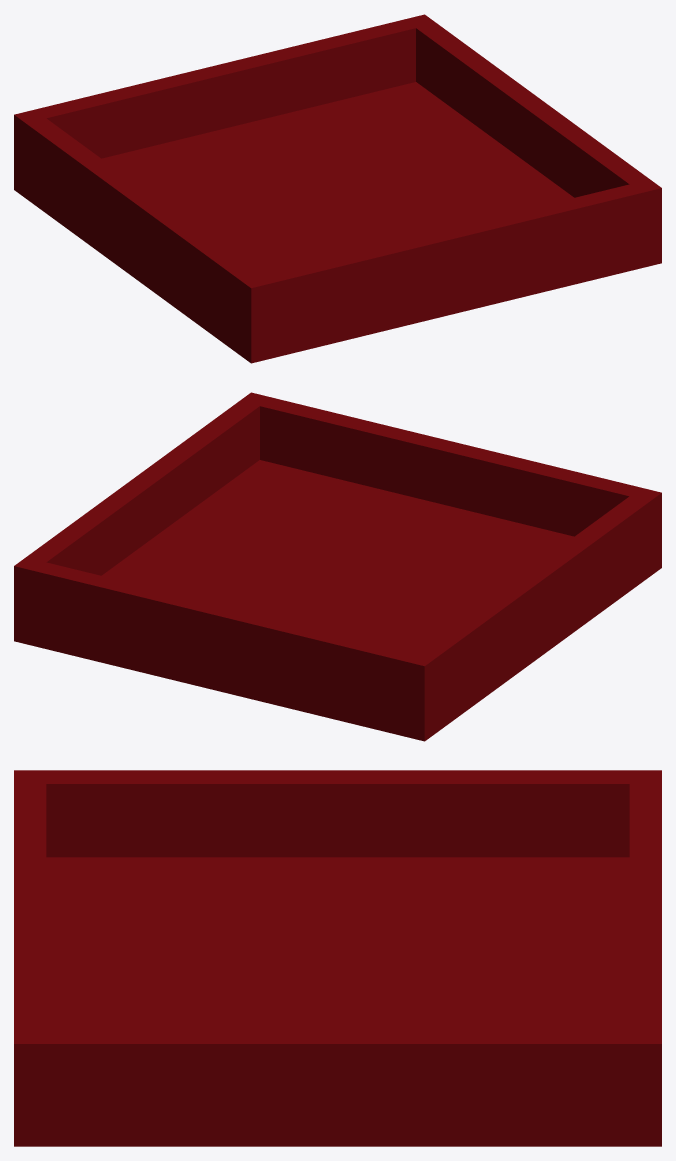
The model's file is RedRoof_4Edges.glb.
The picture shows the model from 3 angles, top to bottom: view 1: azimuth 30°, elevation 25°; view 2: azimuth 150°, elevation 25°; view 3: azimuth 270°, elevation 25°; orthographic projection. The views are drawn at different scales.
Parts seen in each view (by area): view 1: roof_flat_4Edges_red; view 2: roof_flat_4Edges_red; view 3: roof_flat_4Edges_red.
Part boxes in pixels (<box>): roof_flat_4Edges_red: <box>14,14,661,363</box>; roof_flat_4Edges_red: <box>14,392,661,741</box>; roof_flat_4Edges_red: <box>14,770,661,1146</box>.
Size of what is drawn, in the model's own units: 4 by 0.7 by 4.
Materials: 1 (1 with a texture image).
